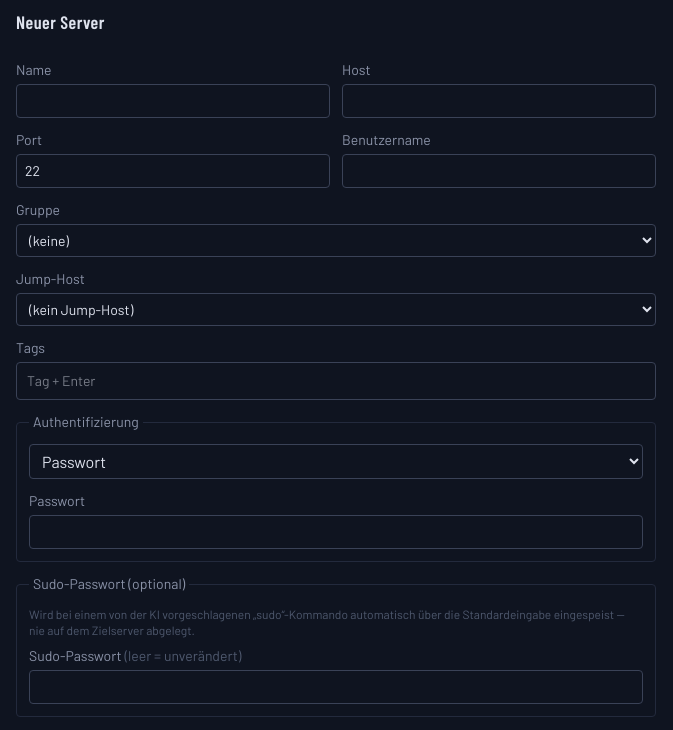
ServerForm — Anmeldeart Schlüsseldatei (Spec 0076, B-1..B-4) › übernimmt den vom Dateidialog gewählten Pfad ins Textfeld (B-2)
Select "Schlüsseldatei" in the 3rd dropdown. click: (336, 462)
box: [29,444,643,479]
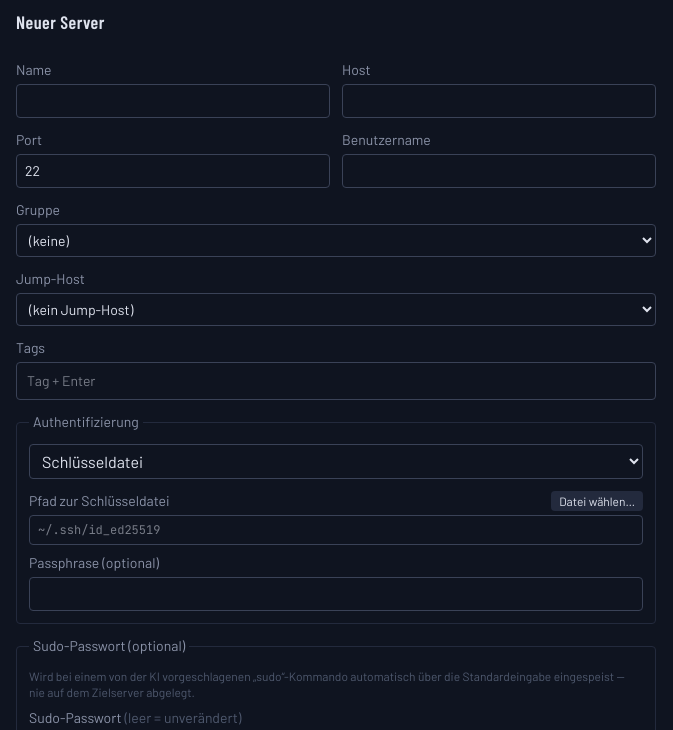
Click the button "Datei wählen…". click: (597, 501)
box: [551,491,643,511]
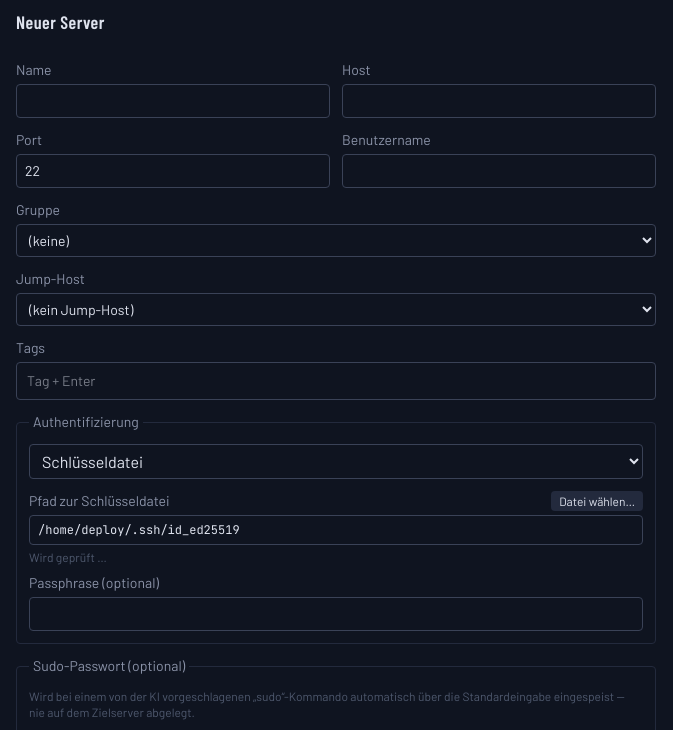
Check: the field showing "/home/deploy/.ssh/id_ed25519" is shown, box [29,515,643,545]
